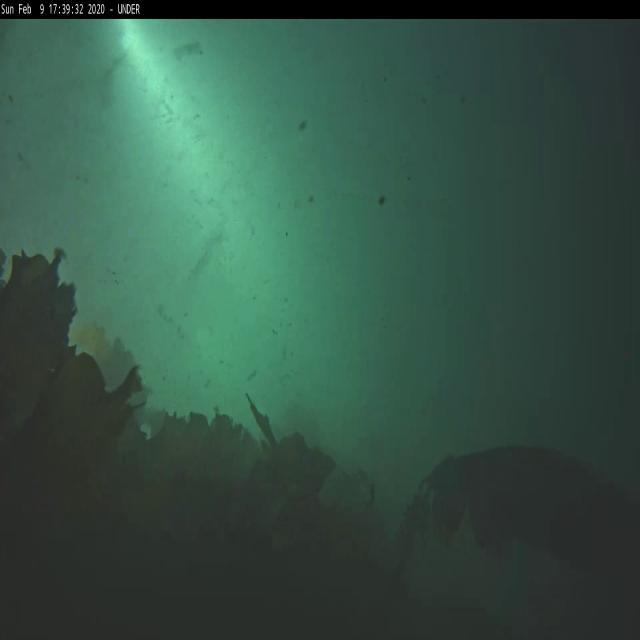fish: (436, 443, 614, 562)
